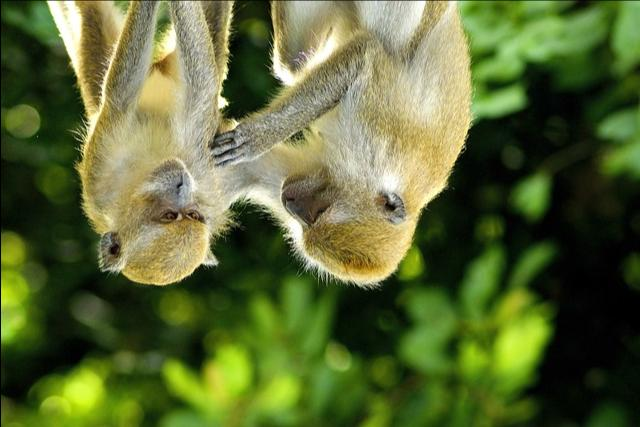Non_Gorille: (24, 0, 484, 366)
